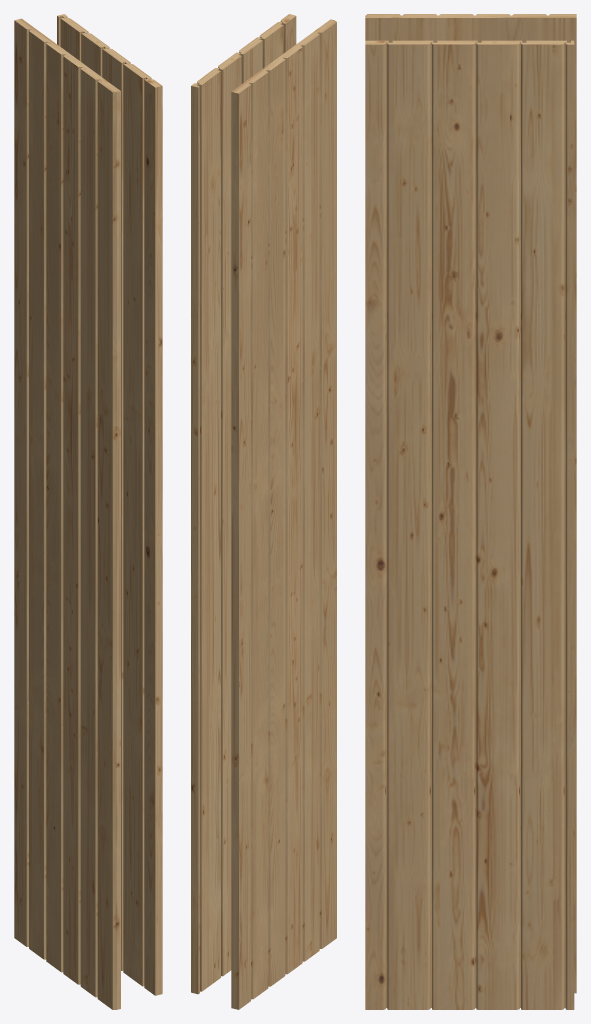
The model's file is Roundy_Sein_A_Osa2_Aknata.glb.
3 views of the same model, side by side, from view 1: azimuth 30°, elevation 25°; view 2: azimuth 150°, elevation 25°; view 3: azimuth 270°, elevation 25° (orthographic). The views are drawn at different scales.
Visible parts, largest first — view 1: Rectangle841, Rectangle840; view 2: Rectangle841, Rectangle840; view 3: Rectangle840, Rectangle841.
Part boxes in pixels (<box>): Rectangle841: <box>14,18,120,1009</box>; Rectangle840: <box>57,14,162,995</box>; Rectangle841: <box>231,19,336,1009</box>; Rectangle840: <box>191,14,296,994</box>; Rectangle840: <box>365,40,574,1009</box>; Rectangle841: <box>365,14,576,993</box>.
Size of the model in its own units: 0.1186 by 2.12 by 0.4163.
1 material, 1 textured.
